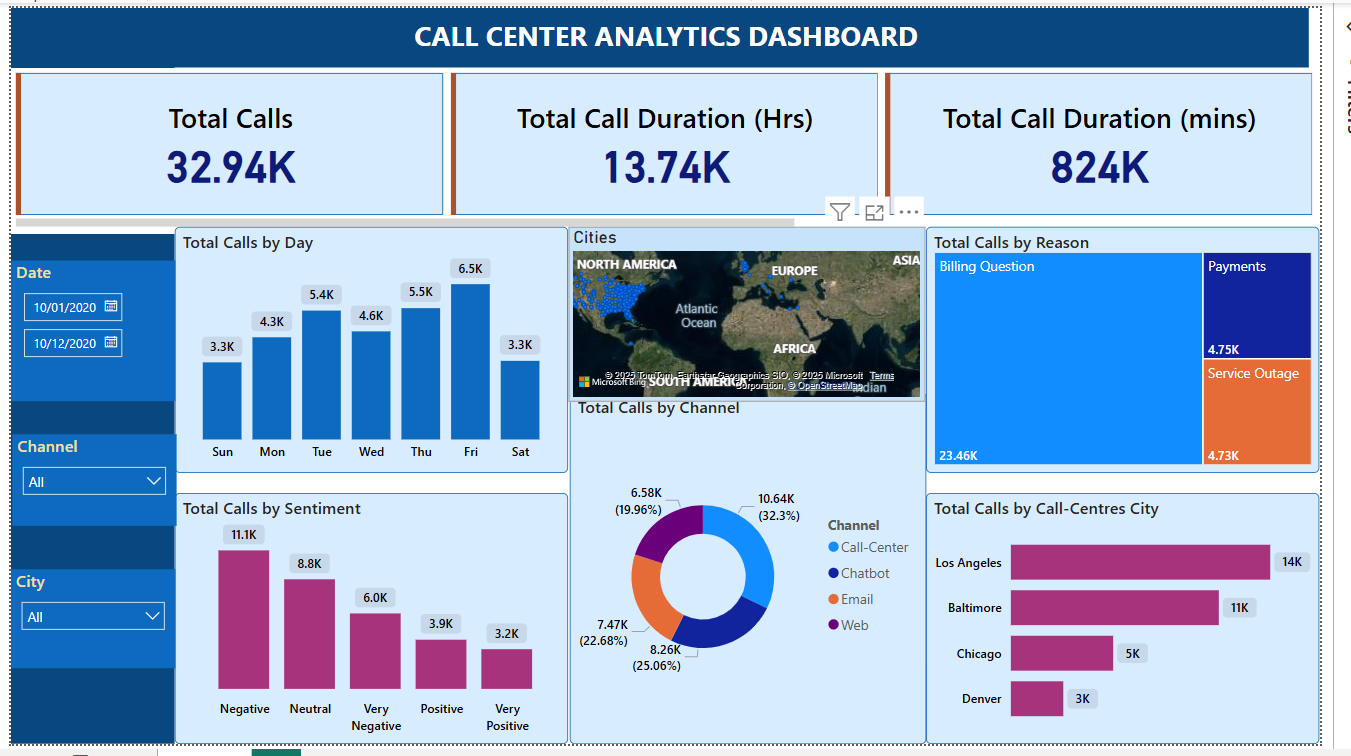

The dashboard page shown, as its layout file describes it:
{"tool":"powerbi","page":{"name":"Page 1","canvas":[1280,720],"ordinal":0},"visuals":[{"type":"shape","box":[0,0,1269.9,58.2],"z":0},{"type":"shape","box":[0,50.1,160.3,669.9],"z":1000},{"type":"cardVisual","fields":{"Data":["Call Center_Call Center.Total Calls","Call Center_Call Center.Total Call Duration (Hrs)","Call Center_Call Center.Total Call Duration (mins)","Call Center_Call Center.Response Time %","Call Center_Call Center.Avg call duration"]},"box":[0,58.7,1280.3,162.6],"z":2000},{"type":"columnChart","fields":{"Category":["Date_Table.Day"],"Y":["Call Center_Call Center.Total Calls"]},"box":[160.2,214,385.2,240.9],"z":3000},{"type":"treemap","fields":{"Group":["Call Center_Call Center.Reason"],"Values":["Call Center_Call Center.Total Calls"]},"box":[895.1,214,385.2,240.9],"z":4000},{"type":"donutChart","fields":{"Category":["Call Center_Call Center.Channel"],"Y":["Call Center_Call Center.Total Calls"]},"box":[546.6,375.4,348.5,344.8],"z":5000},{"type":"columnChart","fields":{"Category":["Call Center_Call Center.Sentiment"],"Y":["Call Center_Call Center.Total Calls"]},"box":[160.6,474.9,385.1,245.4],"z":6000},{"type":"barChart","fields":{"Y":["Call Center_Call Center.Total Calls"],"Category":["Call Center_Call Center.Call-Centres City"]},"box":[894.9,474.9,385.1,245.4],"z":7000},{"type":"slicer","title":"Date","fields":{"Values":["Date_Table.Date"]},"box":[0,247.5,160.7,138],"z":8000},{"type":"slicer","title":"Channel","fields":{"Values":["Call Center_Call Center.Channel"]},"box":[1.4,416.7,160.7,89.6],"z":9000},{"type":"slicer","title":"City","fields":{"Values":["Call Center_Call Center.City"]},"box":[0,549,160.7,96.7],"z":10000},{"type":"textbox","box":[320.4,3.7,640.8,50.1],"z":11000},{"type":"map","title":"Cities","fields":{"Category":["Call Center_Call Center.City"]},"box":[545.4,214,348.5,171.2],"z":11001}]}

Visuals, with their boxes in screenshot pixels (x1, y1, x2, y2):
shape: 4, 4, 1319, 64
shape: 4, 55, 170, 749
cardVisual - Call Center_Call Center.Total Calls x Call Center_Call Center.Total Call Duration (Hrs): 4, 64, 1330, 233
columnChart - Date_Table.Day x Call Center_Call Center.Total Calls: 169, 225, 569, 475
treemap - Call Center_Call Center.Reason x Call Center_Call Center.Total Calls: 931, 225, 1330, 475
donutChart - Call Center_Call Center.Channel x Call Center_Call Center.Total Calls: 570, 392, 931, 750
columnChart - Call Center_Call Center.Sentiment x Call Center_Call Center.Total Calls: 170, 496, 569, 750
barChart - Call Center_Call Center.Total Calls x Call Center_Call Center.Call-Centres City: 931, 496, 1330, 750
"Date" slicer: 4, 260, 170, 403
"Channel" slicer: 5, 435, 171, 528
"City" slicer: 4, 572, 170, 673
textbox: 335, 7, 999, 59
"Cities" map: 569, 225, 930, 403
